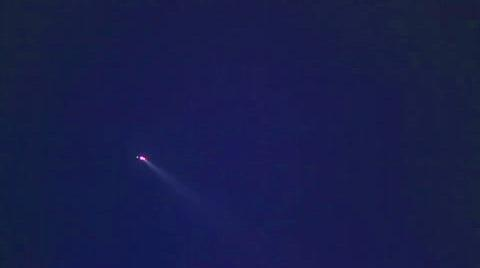Plane: (120, 146, 191, 190)
